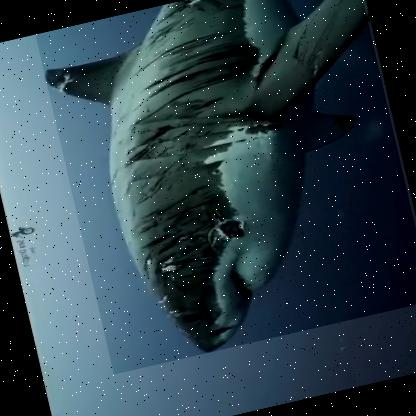white-shark: (35, 0, 415, 376)
